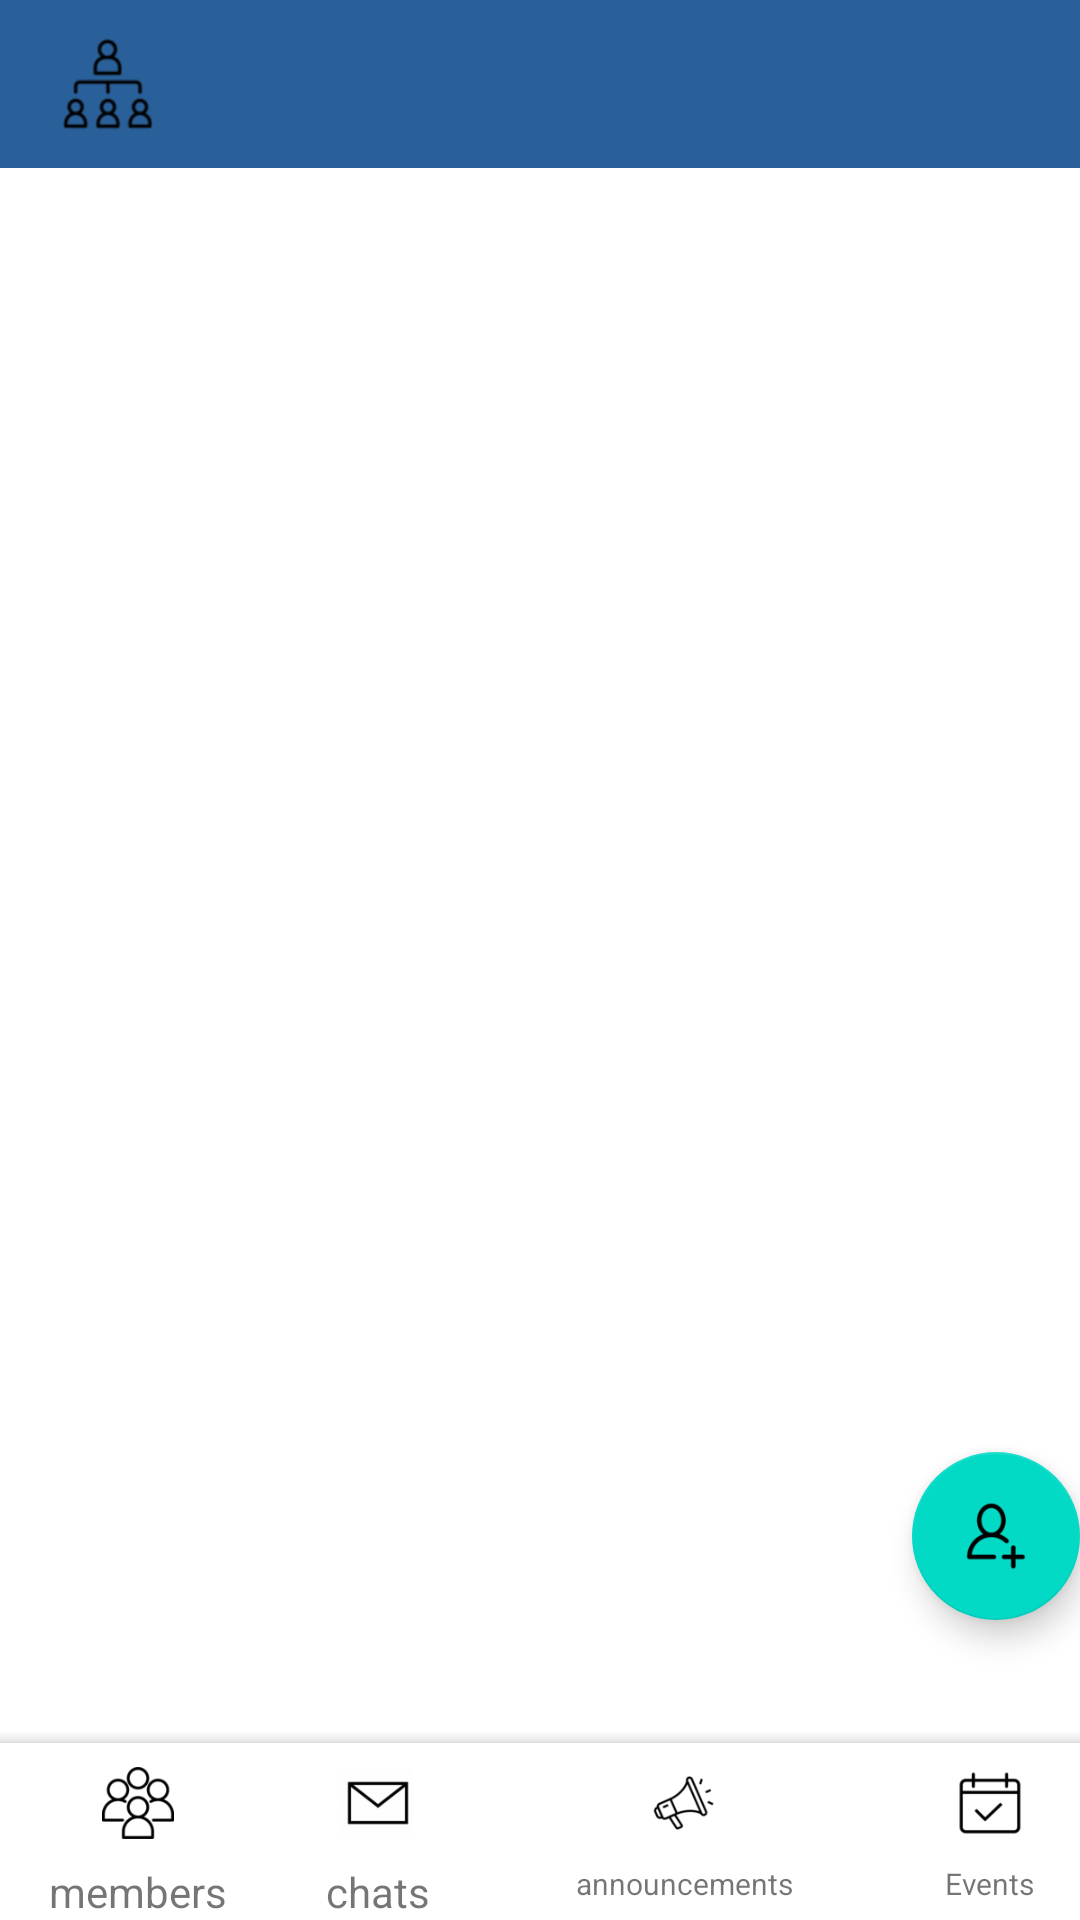

Named icons in this screenshot (1080×1920) and their centers, [x,y]:
add member: [996,1536]
organization: [107,84]
